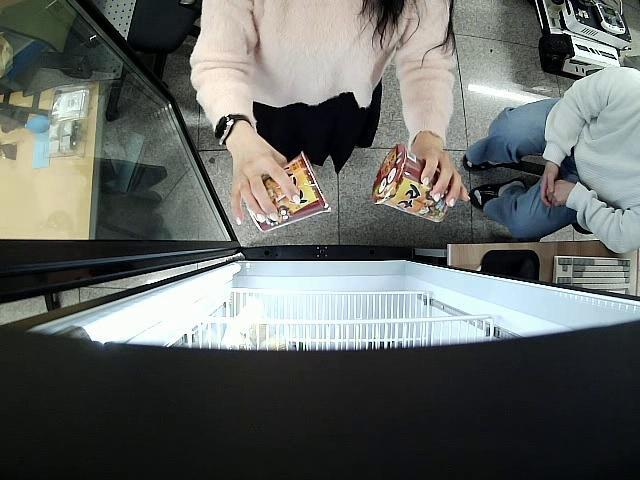06_nuguri_S: (244, 152, 332, 234), (370, 145, 450, 224)
